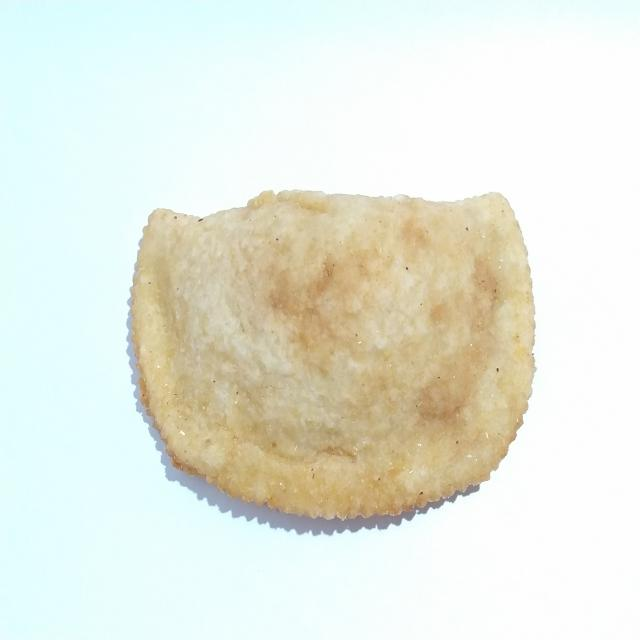Food: (123, 175, 542, 542)
